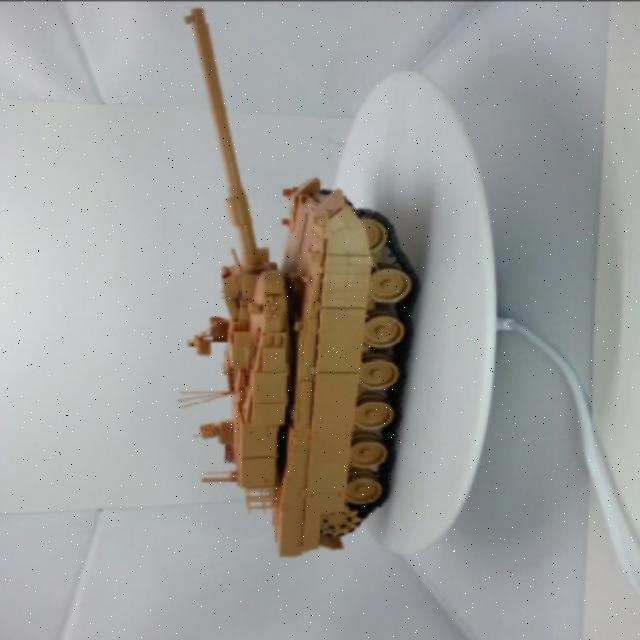korea tank: (168, 5, 430, 583)
